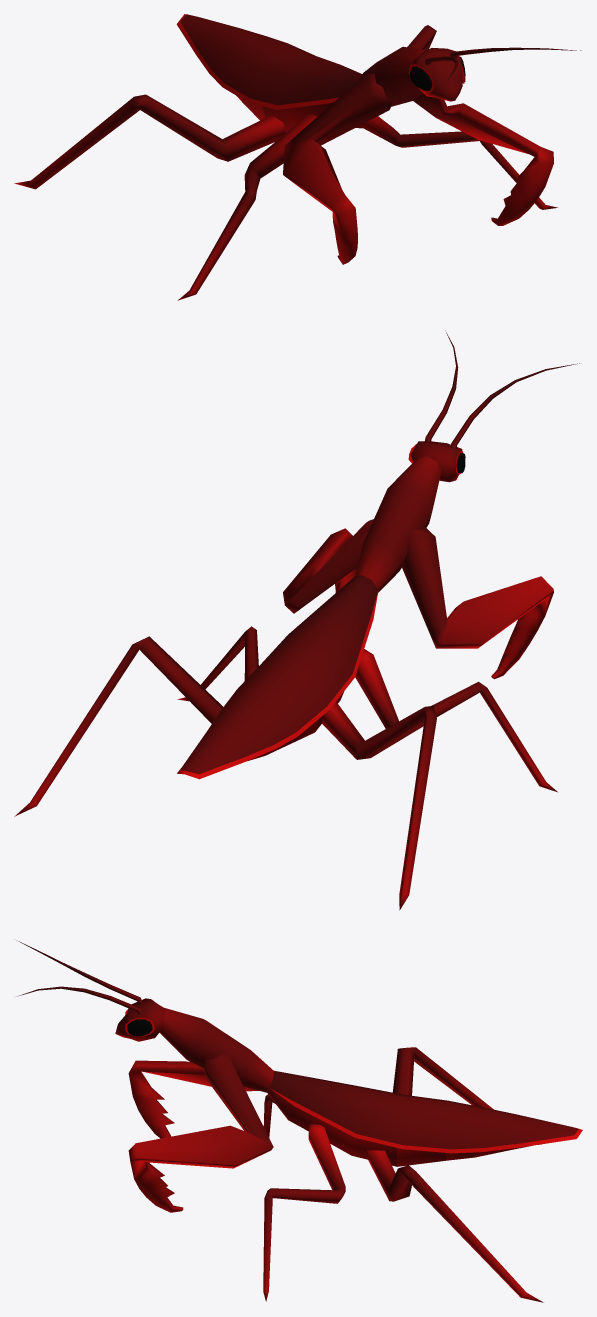
File: Insects_PrayingMantis.fbx
The picture shows the model from 3 angles, top to bottom: view 1: azimuth 30°, elevation 25°; view 2: azimuth 150°, elevation 25°; view 3: azimuth 270°, elevation 25°; orthographic projection. The views are drawn at different scales.
Parts seen in each view (by area): view 1: base; view 2: base; view 3: base.
Boxes of the visible parts, box(x1,y1,x2,y2) form: base: box(14, 14, 581, 300); base: box(14, 330, 579, 910); base: box(16, 940, 582, 1302).
Size of the model in its own units: 50.09 by 36.41 by 74.1.
